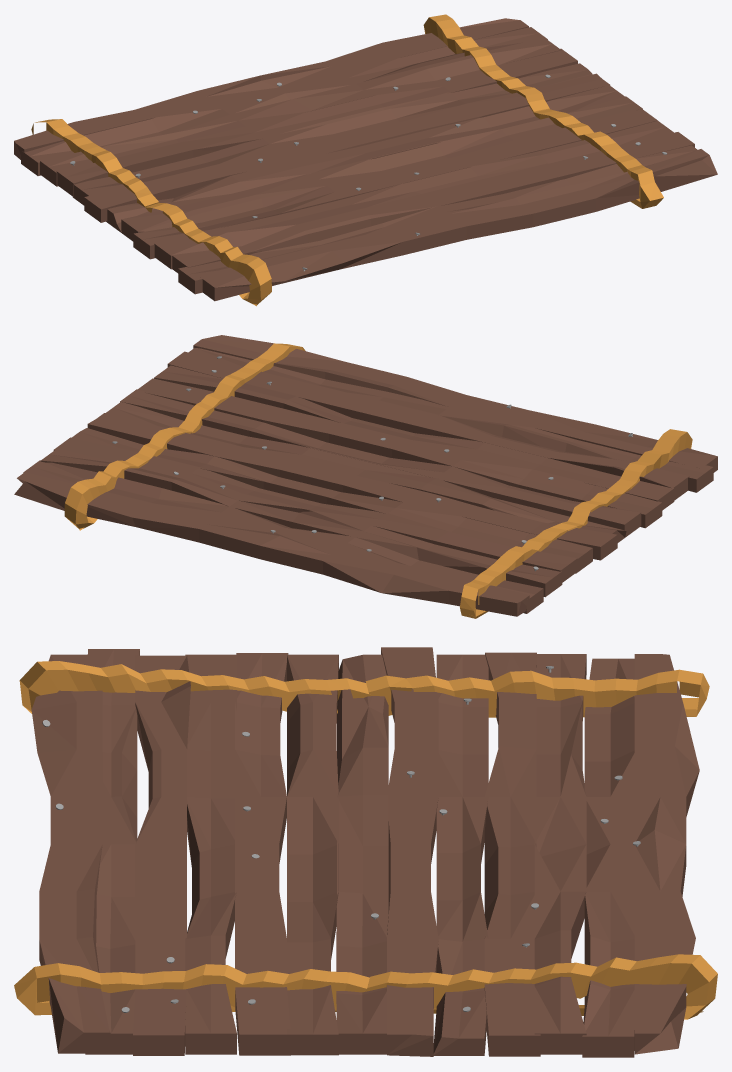
Rendered from Liferaft made of planks.glb.
3 renders of one model, top to bottom at view 1: azimuth 30°, elevation 25°; view 2: azimuth 150°, elevation 25°; view 3: azimuth 270°, elevation 25°, orthographic. The views are drawn at different scales.
Visible parts, largest first — view 1: group460844637, group1517021208, group666125681; view 2: group460844637, group666125681, group1517021208; view 3: group460844637, group1517021208, group666125681.
Boxes of the visible parts, left/top/right/bottom form: group460844637: left=14, top=18, right=717, bottom=301; group1517021208: left=423, top=14, right=663, bottom=208; group666125681: left=31, top=119, right=271, bottom=306; group460844637: left=14, top=335, right=717, bottom=616; group666125681: left=460, top=429, right=692, bottom=618; group1517021208: left=64, top=343, right=305, bottom=530; group460844637: left=31, top=647, right=699, bottom=1057; group1517021208: left=14, top=954, right=717, bottom=1019; group666125681: left=19, top=661, right=709, bottom=717.
Bounding box in the file's own units: 4.77 × 0.3627 × 3.67.
